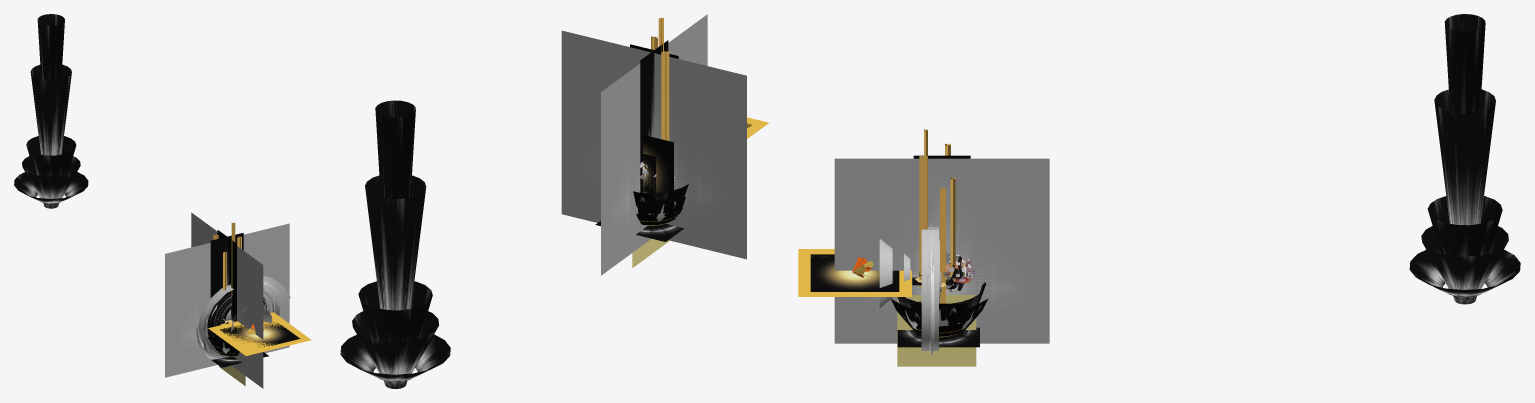
3 renders of one model, left to right at view 1: azimuth 30°, elevation 25°; view 2: azimuth 150°, elevation 25°; view 3: azimuth 270°, elevation 25°, orthographic. The views are drawn at different scales.
Visible parts, largest first — view 1: "Editable Poly@#20", "Editable Poly@#13", "Editable Poly@#14", "Editable Poly@#31", "Editable Poly@#12", "Editable Poly@#29", Plane11, Plane13, Plane01@#2, "Editable Poly@#3", Plane03, "Editable Poly@#9" (+1 smaller); view 2: "Editable Poly@#20", "Editable Poly@#13", "Editable Poly@#14", "Editable Poly@#12", "Editable Poly@#25", Plane13, Plane11@#17, Plane07, Plane@#0, Plane; view 3: "Editable Poly@#20", "Editable Poly@#13", "Editable Poly@#14", "Editable Poly@#12", "Editable Poly@#29", Plane, "Editable Poly@#9", "Editable Poly@#31", Plane@#0, PolyMesh, Plane07, Plane15 (+1 smaller).
Boxes of the visible parts, x1=… form: "Editable Poly@#20": x1=165, y1=212, x2=289, y2=388; "Editable Poly@#13": x1=30, y1=14, x2=71, y2=155; "Editable Poly@#14": x1=14, y1=136, x2=88, y2=208; "Editable Poly@#31": x1=208, y1=312, x2=311, y2=355; "Editable Poly@#12": x1=198, y1=242, x2=255, y2=358; "Editable Poly@#29": x1=220, y1=322, x2=300, y2=346; Plane11: x1=210, y1=232, x2=243, y2=297; Plane13: x1=217, y1=230, x2=236, y2=321; Plane01@#2: x1=207, y1=291, x2=266, y2=349; "Editable Poly@#3": x1=223, y1=275, x2=290, y2=368; Plane03: x1=198, y1=292, x2=219, y2=355; "Editable Poly@#9": x1=203, y1=285, x2=278, y2=359; "Editable Poly@#20": x1=561, y1=14, x2=746, y2=275; "Editable Poly@#13": x1=365, y1=100, x2=426, y2=310; "Editable Poly@#14": x1=340, y1=281, x2=450, y2=388; "Editable Poly@#12": x1=612, y1=51, x2=696, y2=238; "Editable Poly@#25": x1=643, y1=135, x2=673, y2=217; Plane13: x1=640, y1=40, x2=668, y2=192; Plane11@#17: x1=661, y1=50, x2=669, y2=140; Plane07: x1=638, y1=197, x2=685, y2=221; Plane@#0: x1=595, y1=221, x2=683, y2=241; Plane: x1=632, y1=239, x2=669, y2=267; "Editable Poly@#20": x1=834, y1=158, x2=1049, y2=343; "Editable Poly@#13": x1=1434, y1=14, x2=1495, y2=225; "Editable Poly@#14": x1=1409, y1=196, x2=1520, y2=304; "Editable Poly@#12": x1=892, y1=174, x2=991, y2=327; "Editable Poly@#29": x1=810, y1=254, x2=899, y2=291; Plane: x1=897, y1=295, x2=976, y2=366; "Editable Poly@#9": x1=921, y1=227, x2=938, y2=350; "Editable Poly@#31": x1=798, y1=249, x2=911, y2=296; Plane@#0: x1=897, y1=327, x2=979, y2=347; PolyMesh: x1=879, y1=239, x2=939, y2=308; Plane07: x1=891, y1=299, x2=987, y2=331; Plane15: x1=919, y1=156, x2=927, y2=286.
Size of the model in its own units: 4.83 by 8.44 by 16.21.
